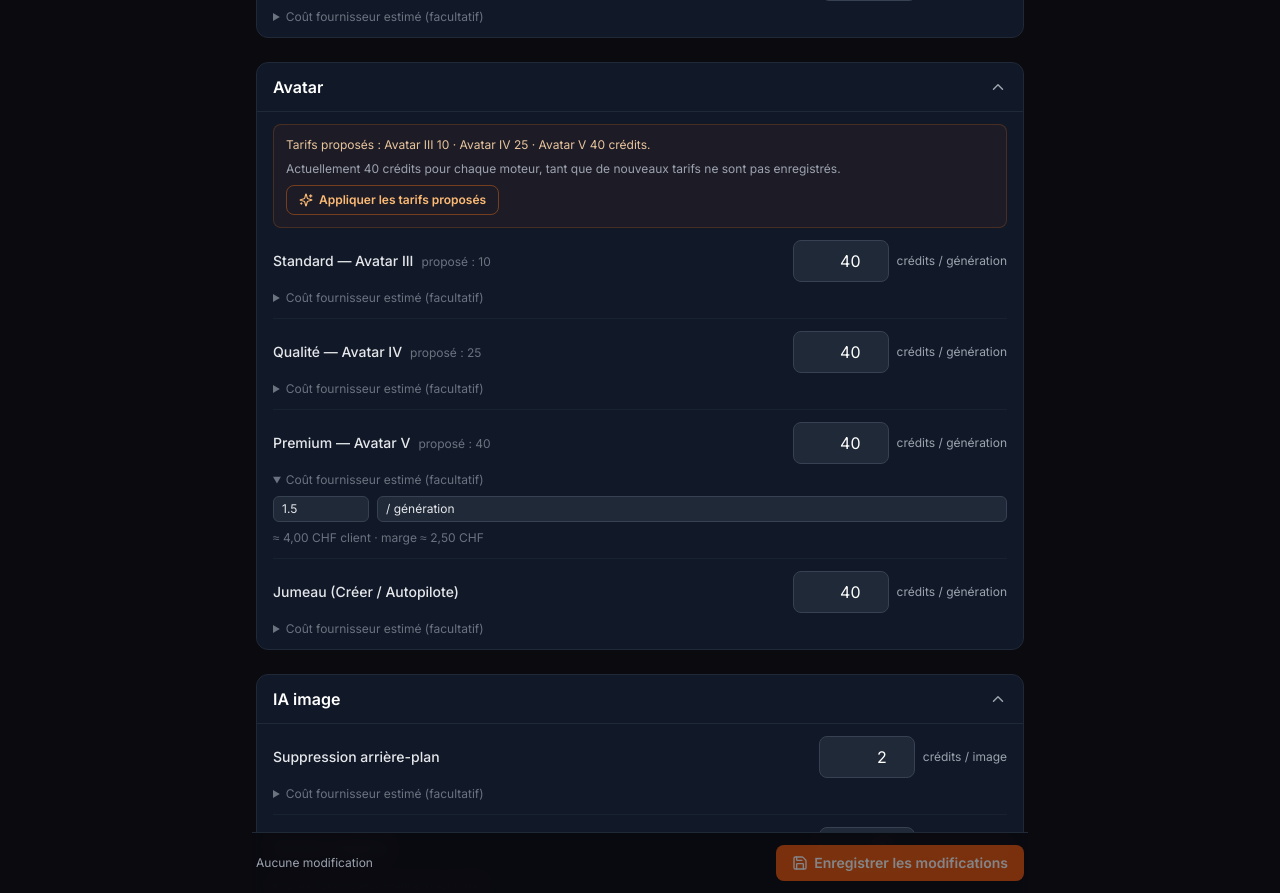
Test: /admin/tarifs › modifier une valeur active Enregistrer ; la confirmation liste « de 40 à 60 »
(page scrolled)
Step 1. Replace the text in the number field labelled "Premium — Avatar V" with "60" → (840, 443), box [792, 422, 888, 464]
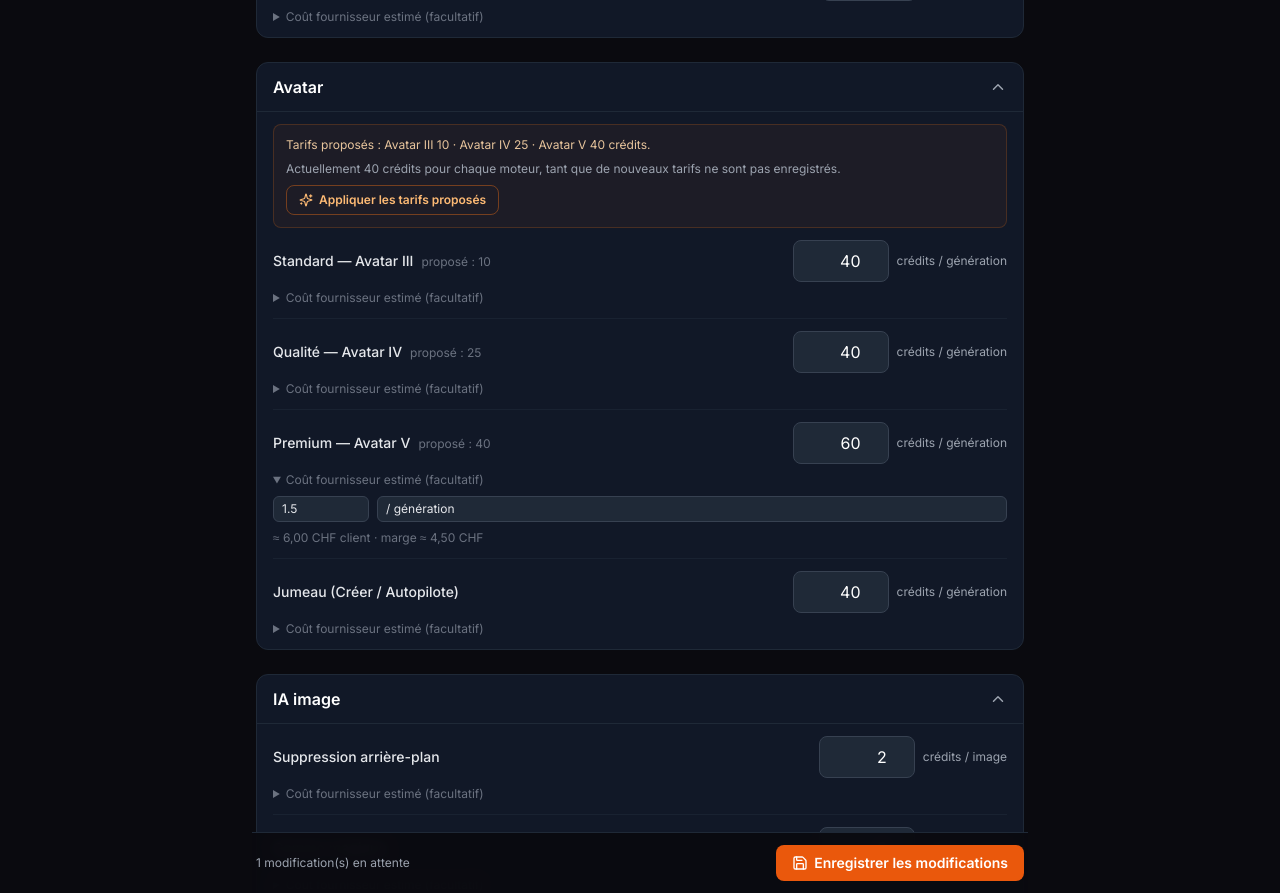
Expected: the button "Enregistrer les modifications" is enabled
Step 2. Click the button "Enregistrer les modifications" → click(900, 863), box [776, 845, 1024, 881]
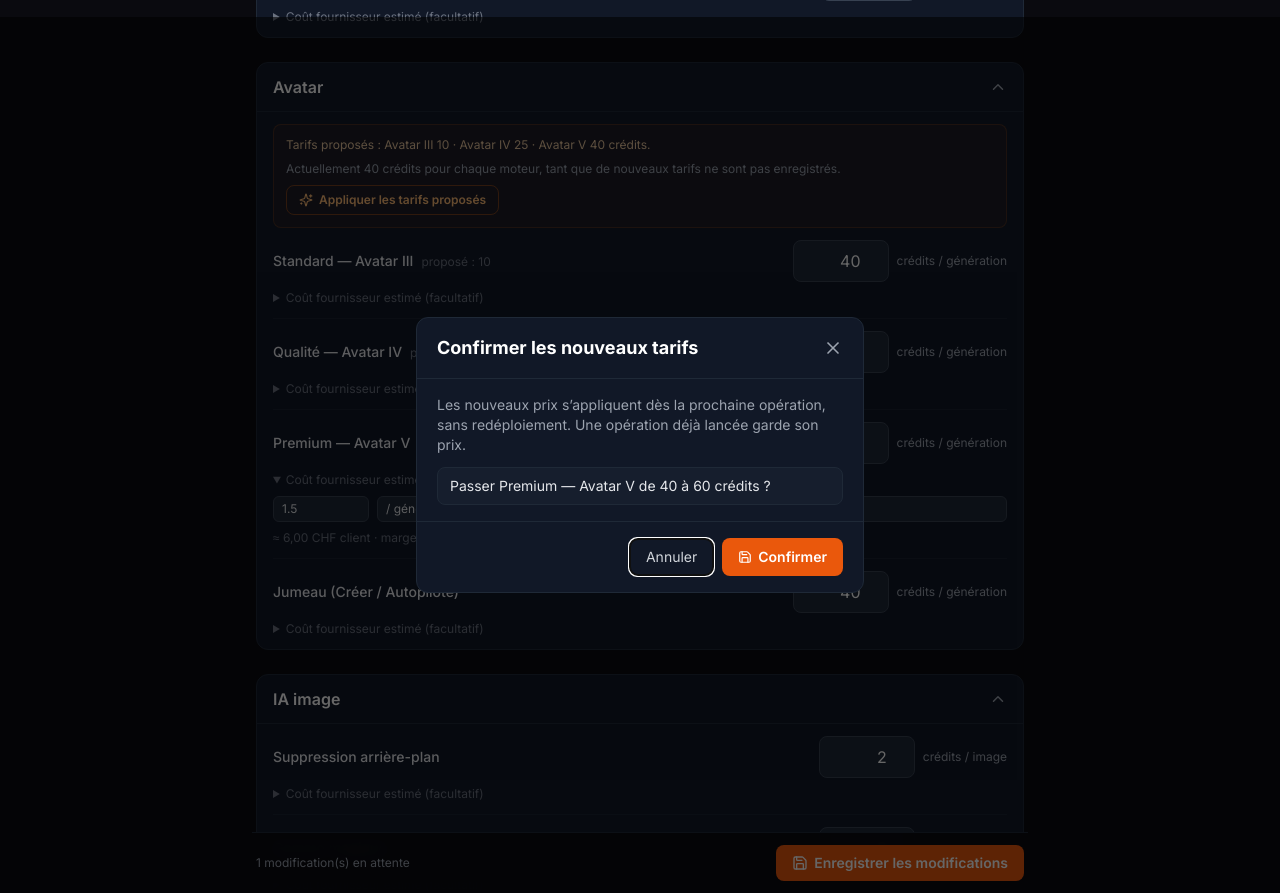
Expected: the list item "Passer Premium — Avatar V de 40 à 60 crédits ?" is shown, [437, 467, 843, 505]
